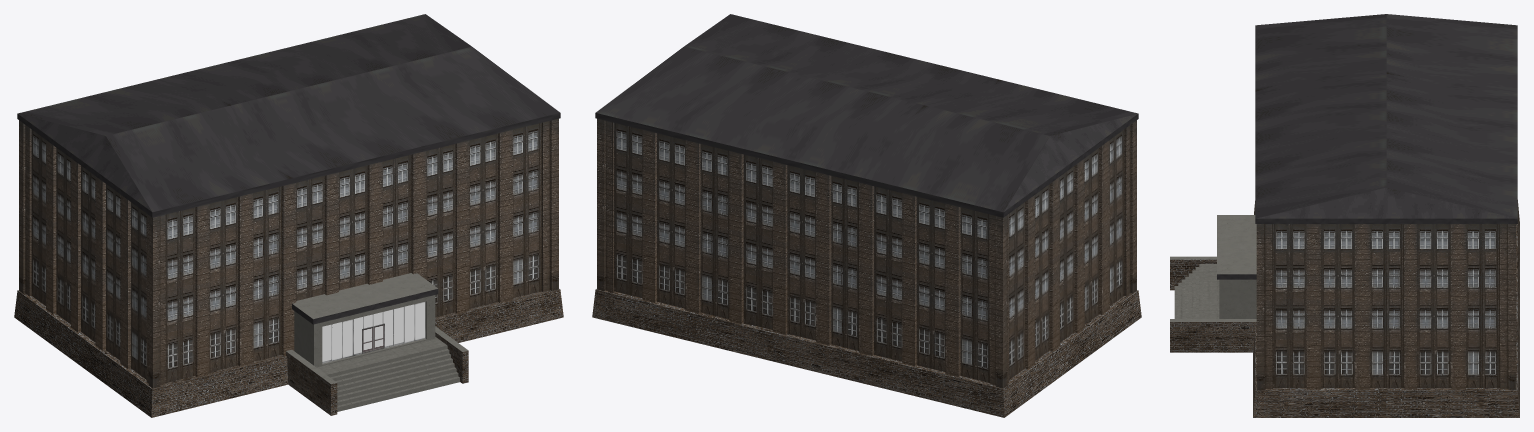
The model's file is factory_building_small.fbx.
3 views of the same model, side by side, from view 1: azimuth 30°, elevation 25°; view 2: azimuth 150°, elevation 25°; view 3: azimuth 270°, elevation 25° (orthographic). The views are drawn at different scales.
Visible parts, largest first — view 1: factory_building_small; view 2: factory_building_small; view 3: factory_building_small.
Part boxes in pixels (left/top/right/bottom): factory_building_small: left=14, top=14, right=563, bottom=417; factory_building_small: left=592, top=14, right=1141, bottom=417; factory_building_small: left=1170, top=14, right=1519, bottom=417.
Bounding box in the file's own units: 3950 × 2070 × 2990.
